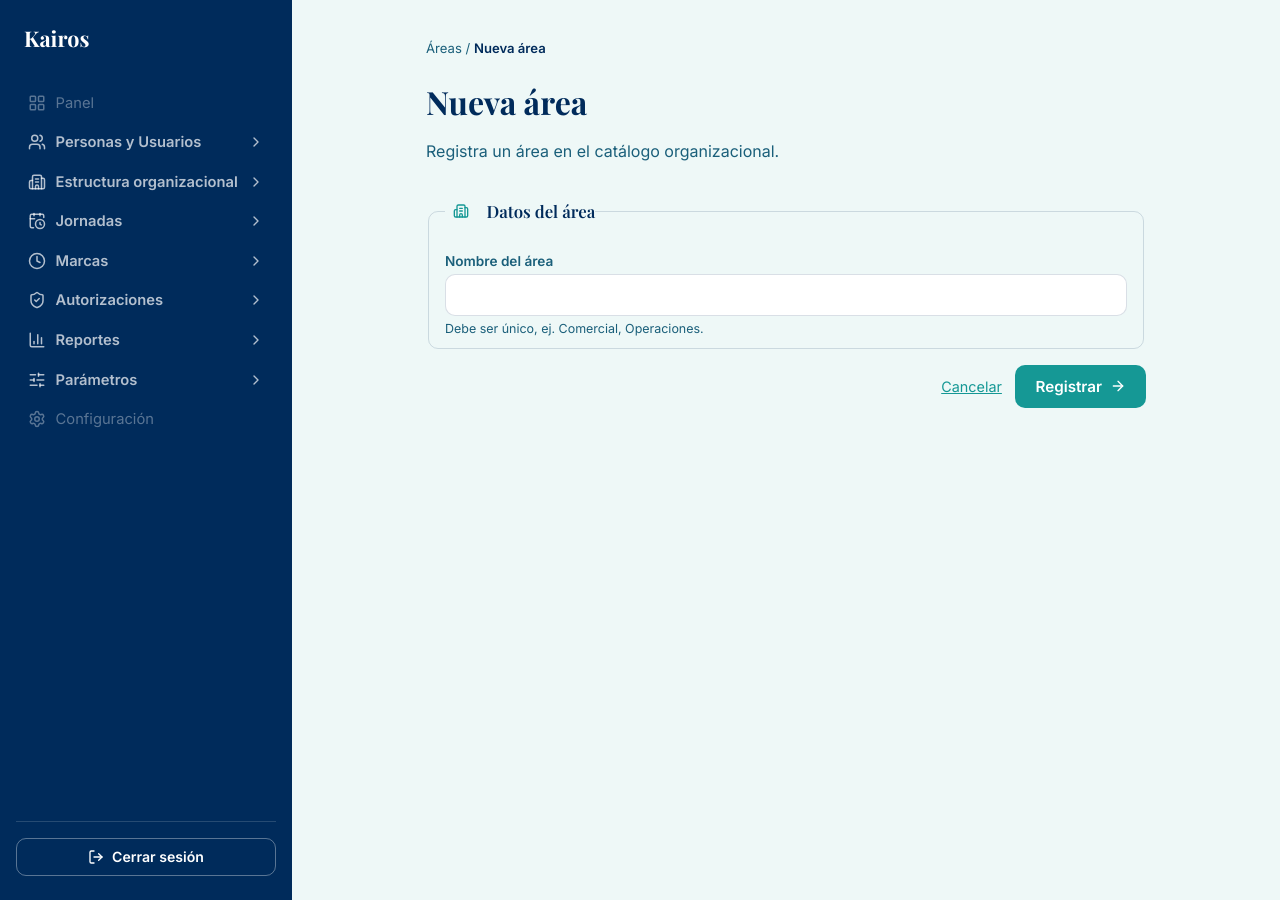
Test case: AltaAreaPage › muestra error de nombre duplicado cuando el backend responde 409
Step 1. Type "Comercial" into the field labelled "Nombre del área" → (786, 295), box [445,274,1127,316]
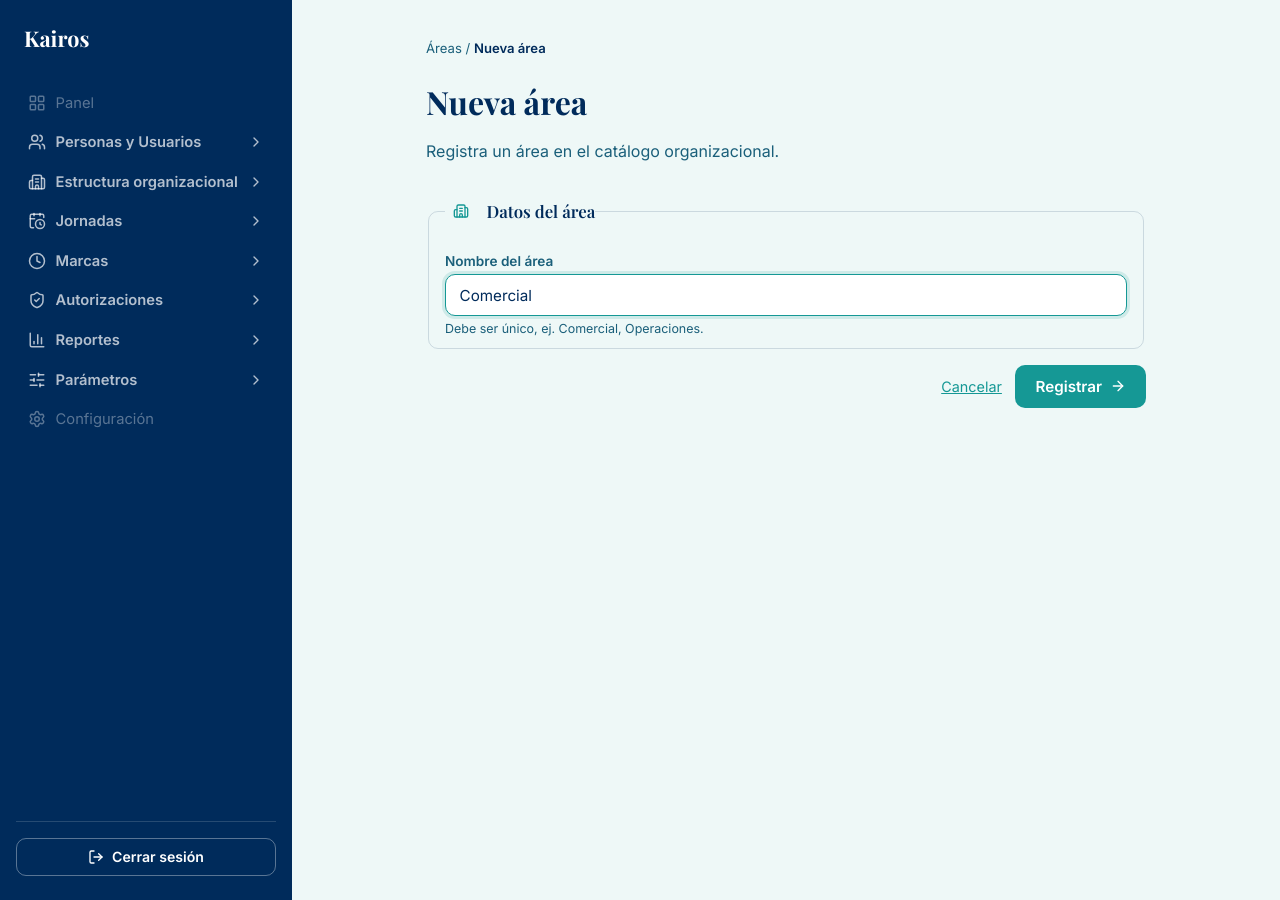
Step 2. Click the button "Registrar" → (1081, 386), box [1016,365,1146,408]
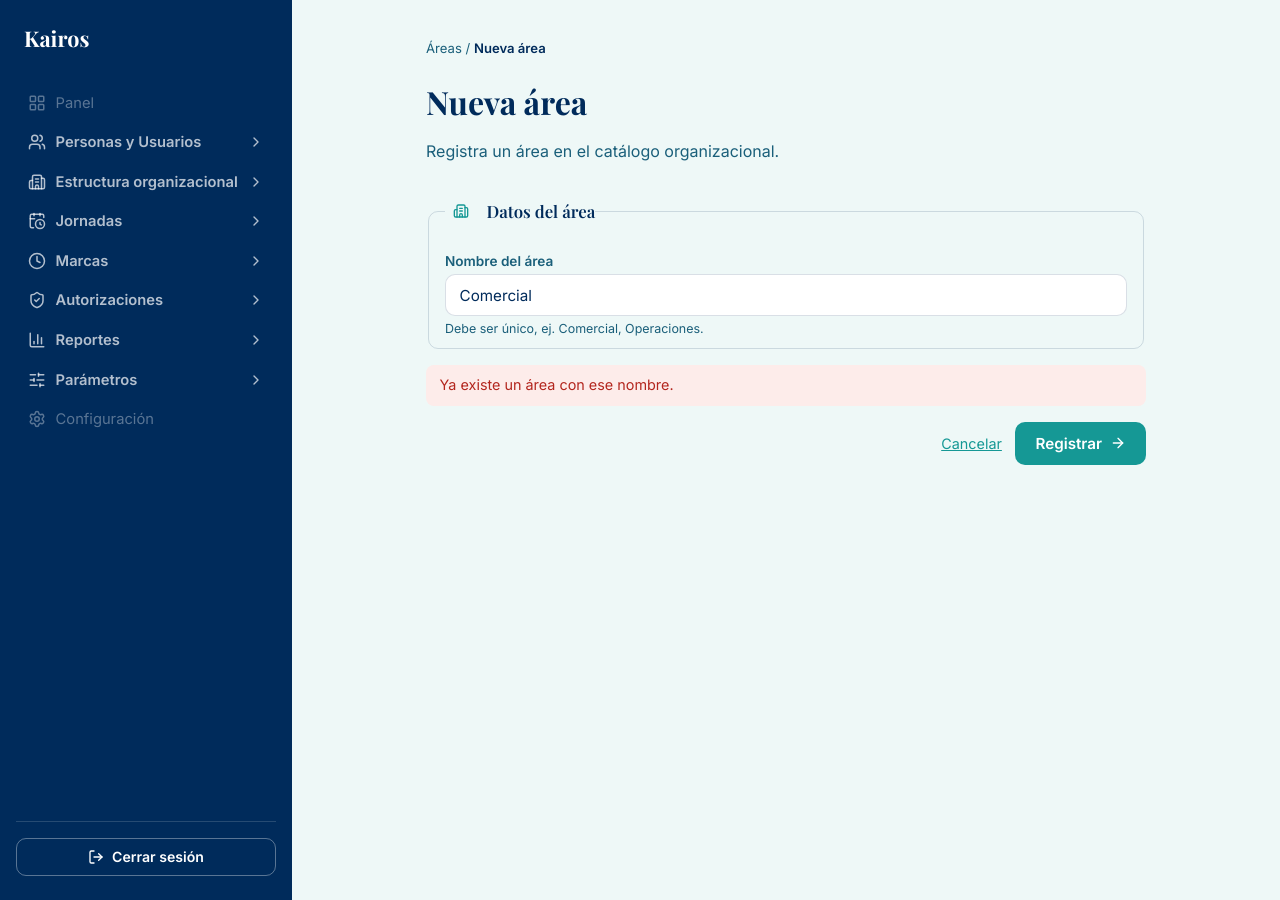
Now the text "Ya existe un área con ese nombre." is shown, box [426,365,1146,406]
